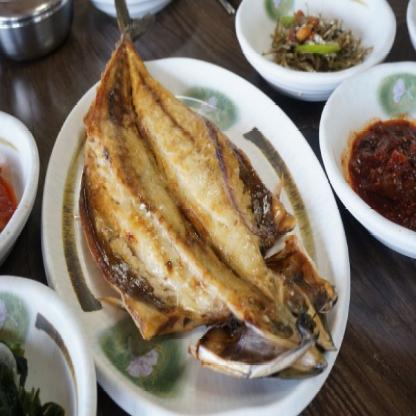Peixe: (76, 0, 337, 404)
